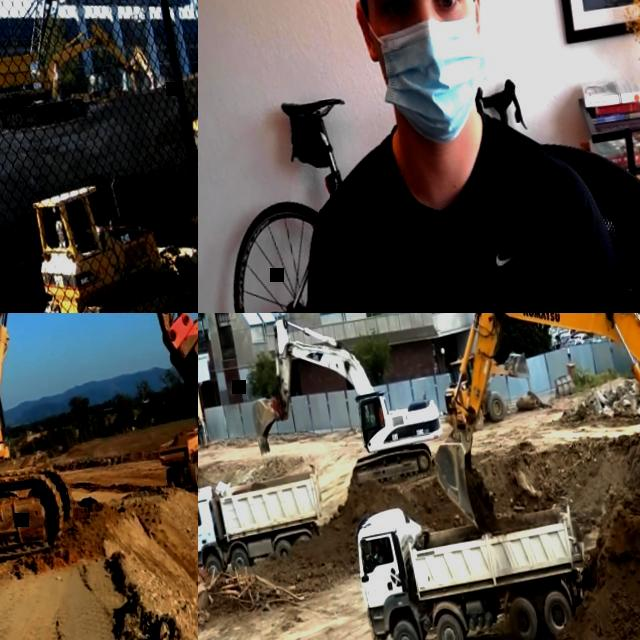machinery: (404, 313, 640, 560), (0, 313, 198, 588), (350, 476, 600, 640), (237, 313, 450, 502), (29, 165, 198, 313), (0, 9, 163, 137), (198, 465, 330, 576), (439, 344, 537, 430), (155, 416, 198, 493)
mask: (353, 0, 498, 155)
no_helmet: (372, 408, 376, 412), (376, 542, 380, 546), (198, 415, 200, 419)
no_vest: (305, 104, 598, 313), (374, 414, 379, 428), (378, 552, 385, 560), (198, 420, 202, 430), (198, 514, 201, 523)
person: (228, 0, 640, 313), (362, 408, 380, 440), (374, 542, 386, 564), (198, 414, 205, 443), (198, 508, 201, 527)
vehicle: (549, 323, 569, 341), (558, 333, 576, 346), (574, 331, 590, 343), (566, 336, 582, 346), (582, 336, 596, 344)
